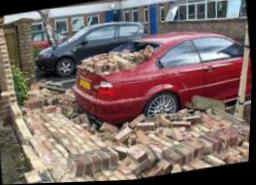Windshield: (104, 41, 160, 66)
